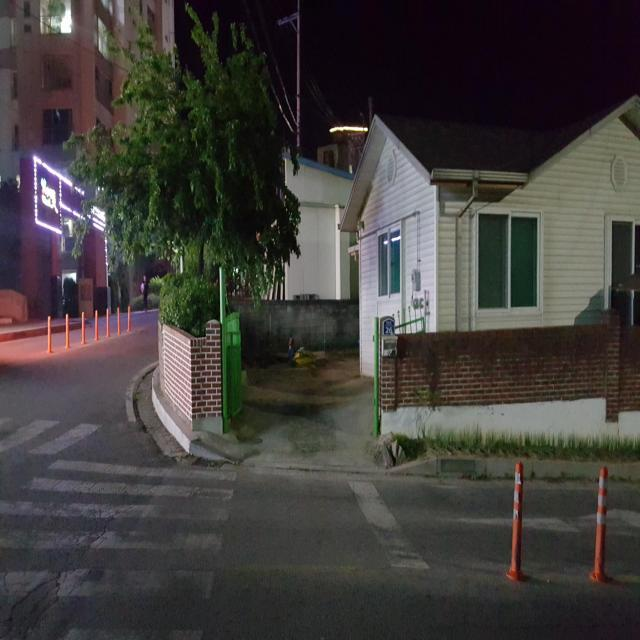횡단보도: (0, 458, 239, 640)
